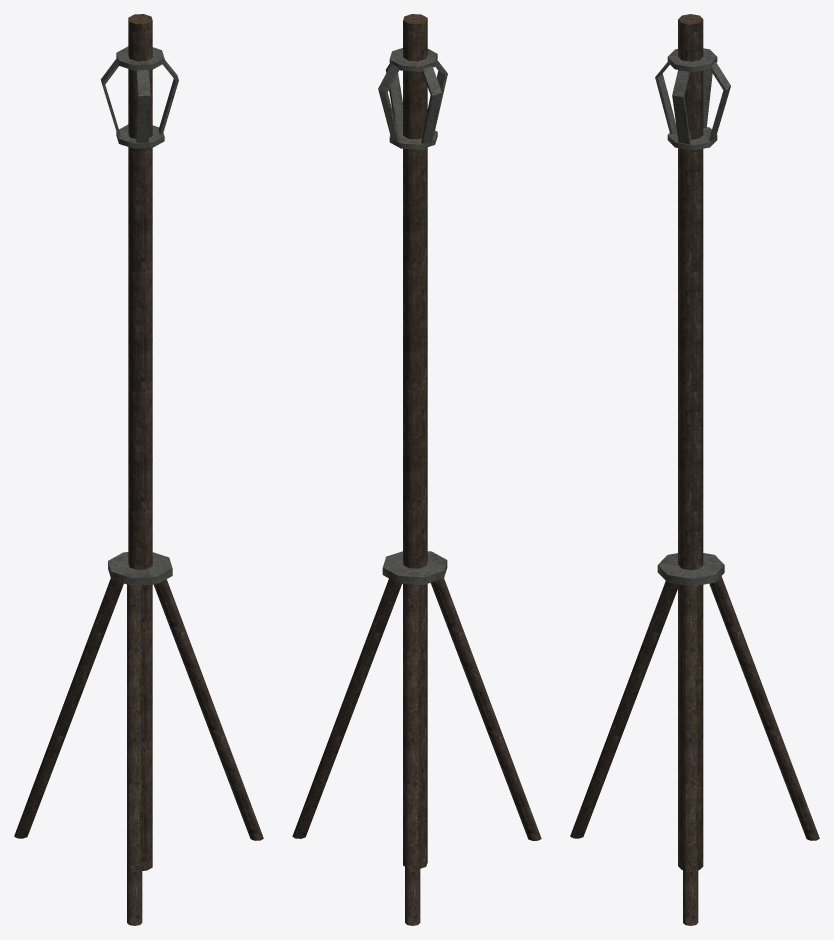
File: Torch_A.FBX
3 renders of one model, left to right at view 1: azimuth 30°, elevation 25°; view 2: azimuth 150°, elevation 25°; view 3: azimuth 270°, elevation 25°, orthographic.
Visible parts, largest first — view 1: Cylinder038; view 2: Cylinder038; view 3: Cylinder038.
Part boxes in pixels (box(x1,y1,x2,y2)): Cylinder038: box(14, 14, 263, 925); Cylinder038: box(292, 14, 541, 925); Cylinder038: box(570, 14, 819, 925).
Bounding box in the file's own units: 67.38 × 285 × 76.17.
1 material, 1 textured.
